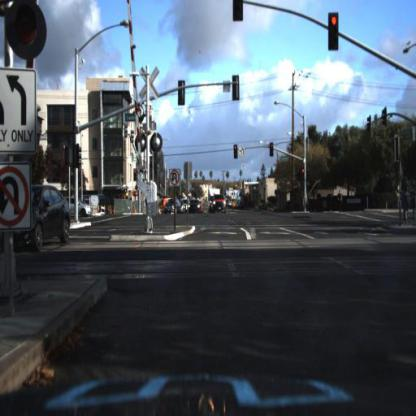biker: (399, 185, 411, 227)
car: (1, 183, 69, 256), (65, 193, 92, 220), (161, 195, 181, 216), (214, 193, 234, 214), (163, 195, 180, 218), (188, 195, 202, 216)
pedestrian: (402, 168, 414, 232), (335, 181, 348, 217), (337, 188, 347, 212), (411, 184, 416, 219)
trafficLight: (233, 1, 243, 25), (234, 141, 239, 162)
trafficLight-Red: (328, 12, 339, 50), (300, 159, 306, 177), (270, 141, 276, 157), (302, 164, 307, 176)
